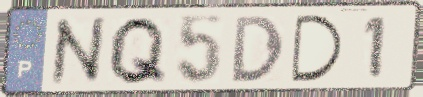1: (361, 15, 388, 80)
5: (174, 12, 224, 88)
D: (289, 13, 347, 85), (230, 13, 286, 85)
N: (49, 14, 107, 90)
Q: (105, 14, 169, 88)
